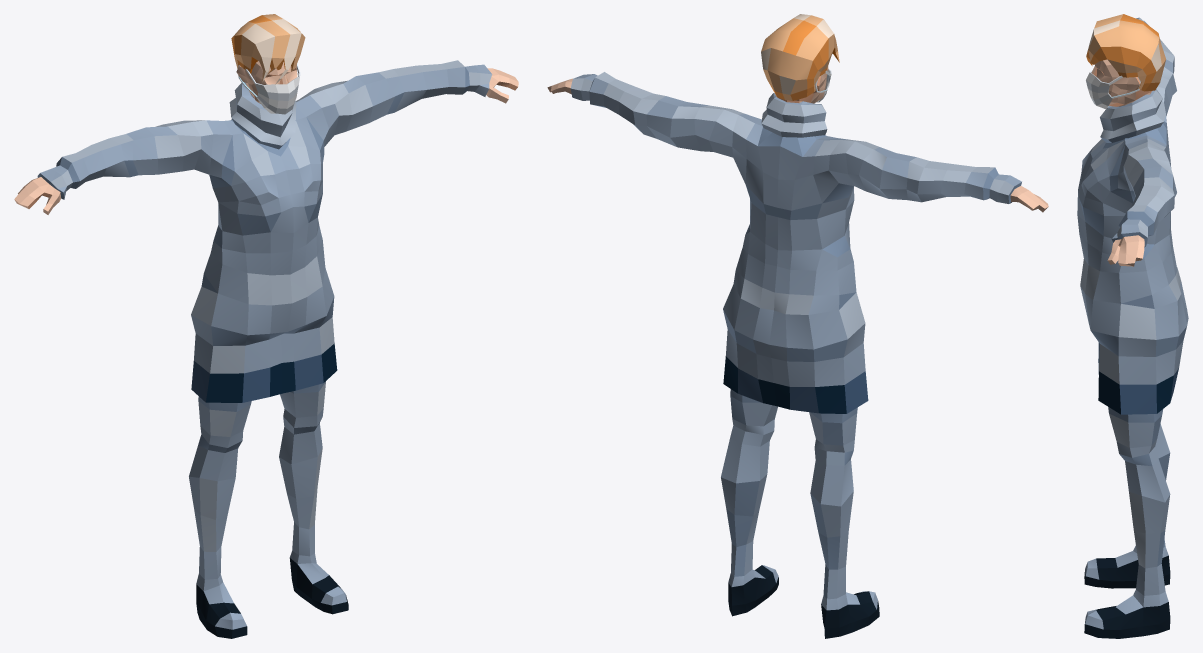
File: winter_Female_A-model.obj
3 views of the same model, side by side, from view 1: azimuth 30°, elevation 25°; view 2: azimuth 150°, elevation 25°; view 3: azimuth 270°, elevation 25° (orthographic).
Visible parts, largest first — view 1: winter_Female_A, acc_short_hair, acc_mask_white; view 2: winter_Female_A, acc_short_hair; view 3: winter_Female_A, acc_short_hair, acc_mask_white.
Boxes of the visible parts, bbox=[...] form: winter_Female_A: bbox=[14, 60, 518, 638]; acc_short_hair: bbox=[231, 14, 305, 84]; acc_mask_white: bbox=[238, 63, 300, 114]; winter_Female_A: bbox=[547, 66, 1048, 638]; acc_short_hair: bbox=[761, 14, 839, 100]; winter_Female_A: bbox=[1077, 17, 1188, 638]; acc_short_hair: bbox=[1086, 14, 1165, 91]; acc_mask_white: bbox=[1086, 70, 1140, 109].
Size of the model in its own units: 153 by 173 by 29.68.
